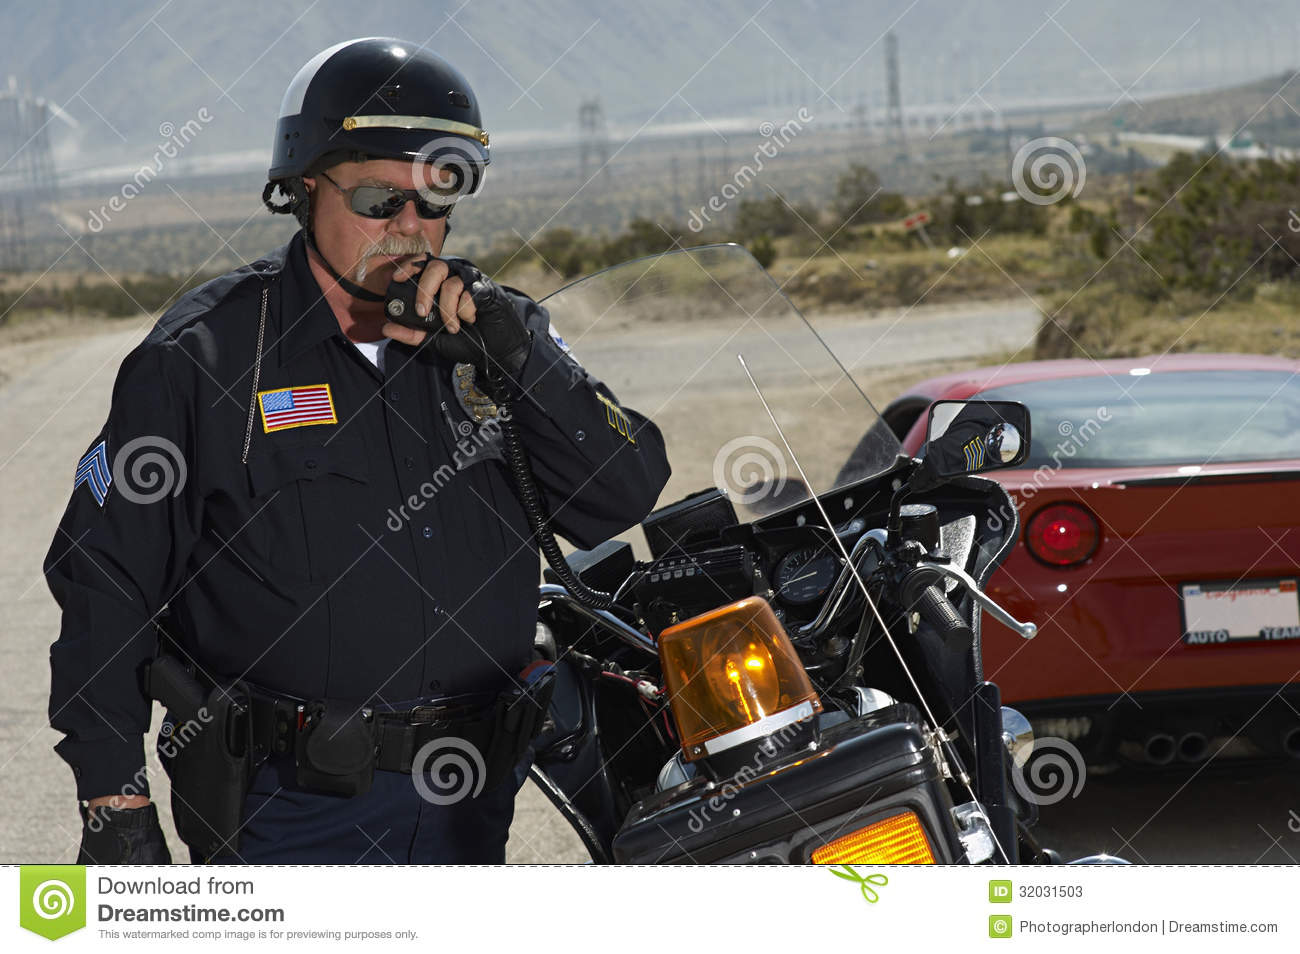helmet: (258, 43, 499, 175)
